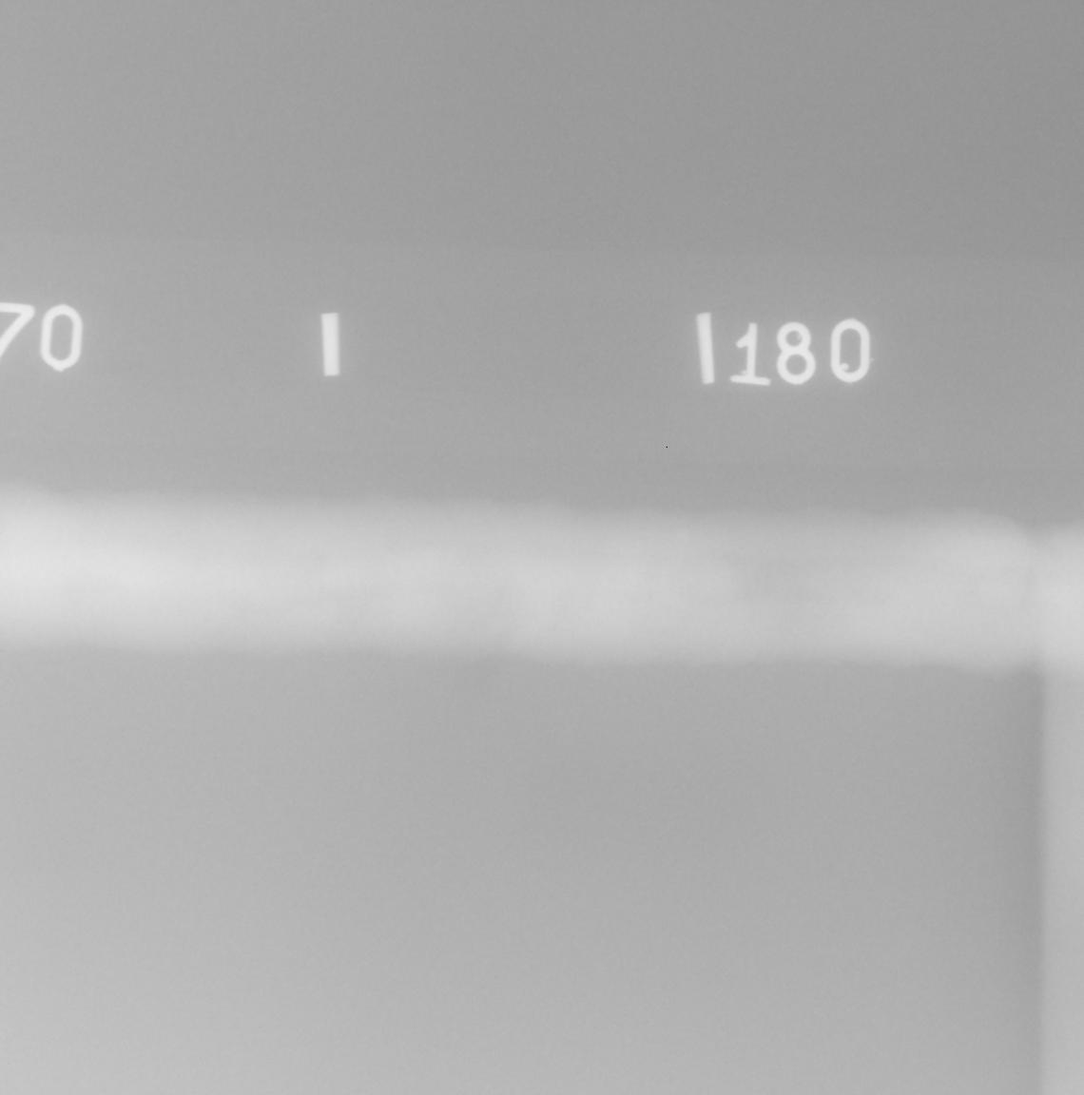Inclusion: (551, 623, 556, 633)
Pore/Porosity: (647, 594, 654, 601)
